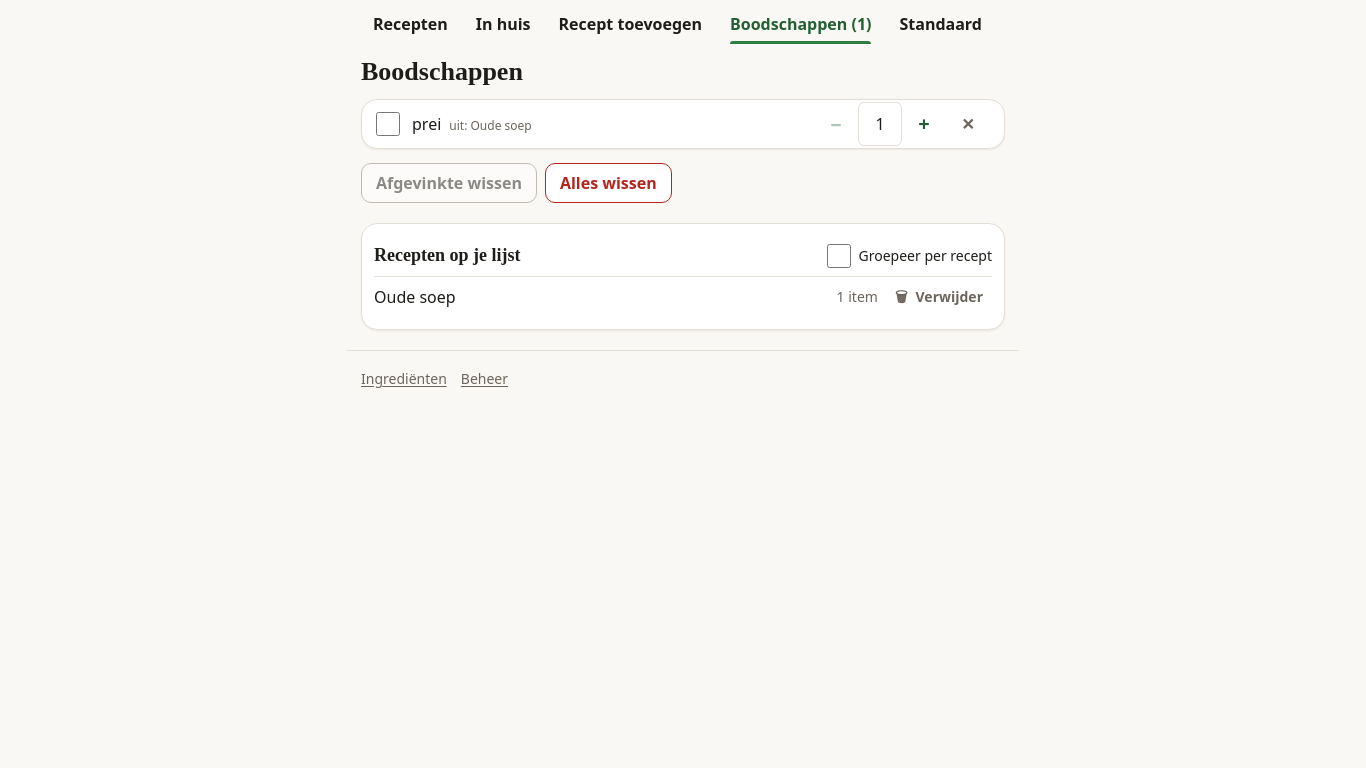
Recepten op je lijst › een verwijderd recept gaat op zijn naam
Step 1. Click the button with class "remove-recipe" → (939, 297), box [886, 277, 992, 317]
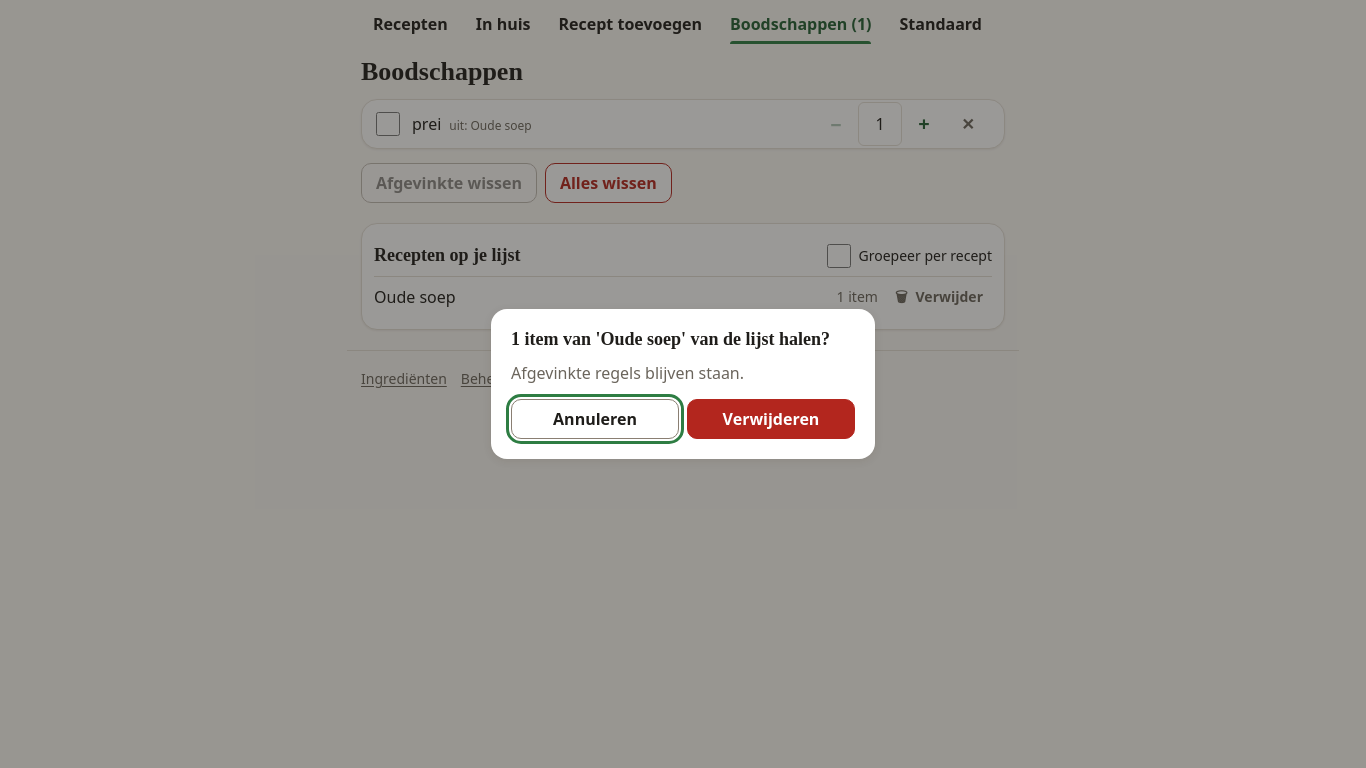
Step 2. Click the button with class "confirm" → (771, 419), box [687, 399, 855, 439]
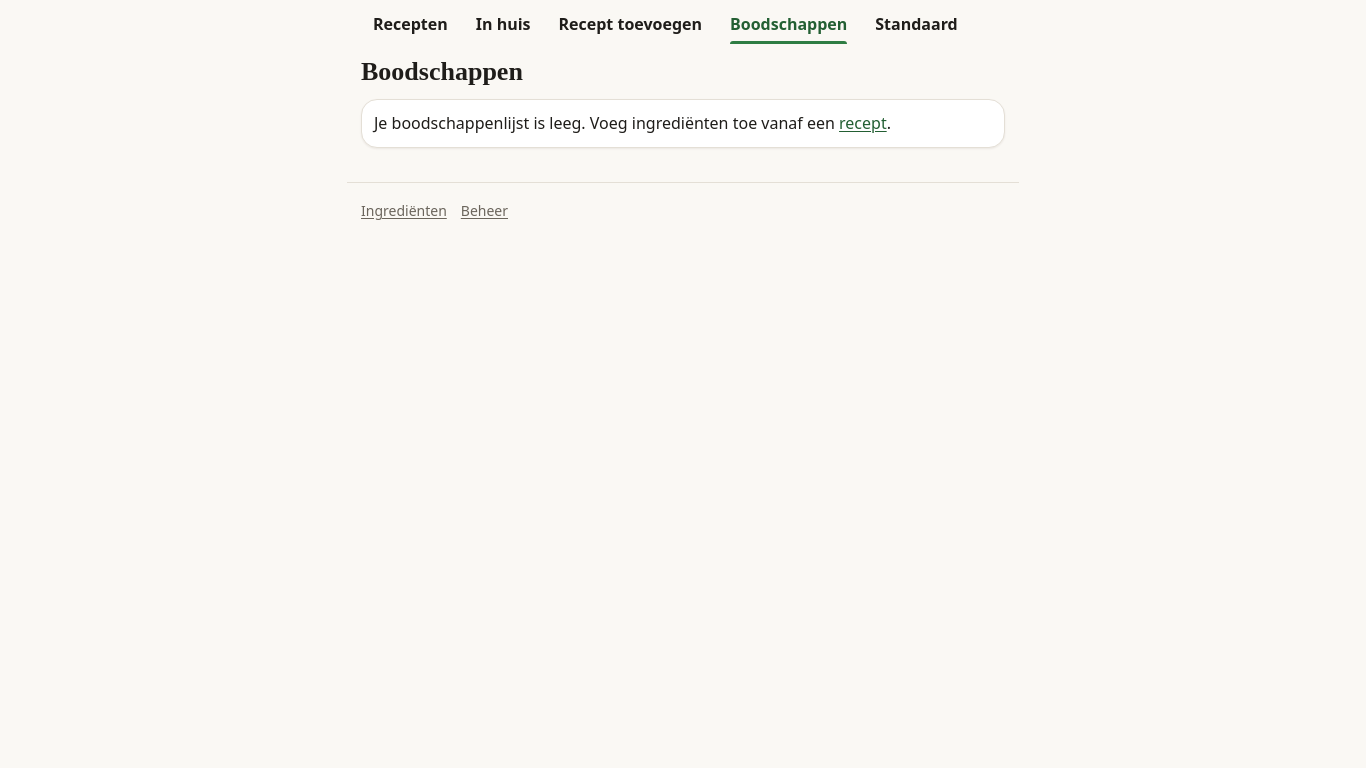
Check: the element with class "empty" is shown, box [361, 99, 1005, 148]
